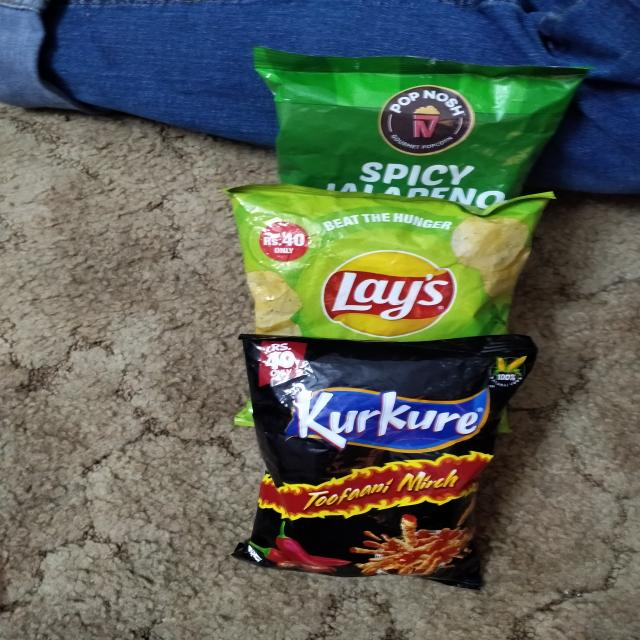Plastic: (238, 331, 500, 573), (260, 53, 582, 198), (239, 190, 538, 333)
